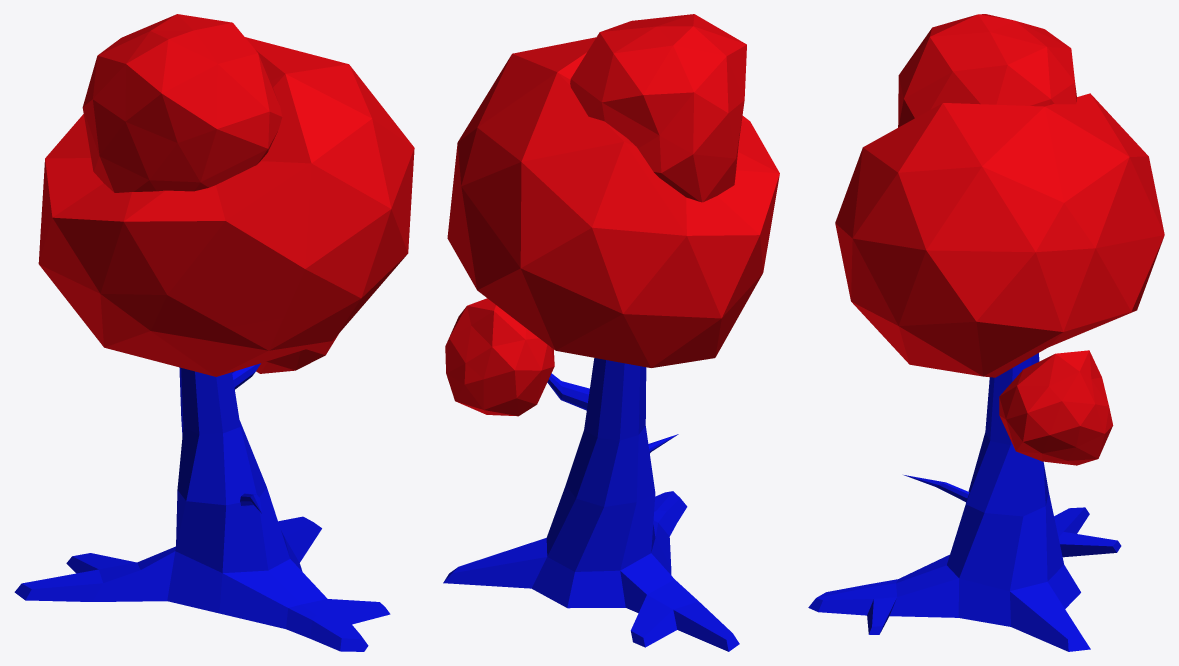
Rendered from SM_Broadleaf1.fbx.
The picture shows the model from 3 angles, left to right: view 1: azimuth 30°, elevation 25°; view 2: azimuth 150°, elevation 25°; view 3: azimuth 270°, elevation 25°; orthographic projection. The views are drawn at different scales.
Parts seen in each view (by area): view 1: SM_Broadleaf1; view 2: SM_Broadleaf1; view 3: SM_Broadleaf1.
Boxes of the visible parts, x1,y1,x2,y2 form: SM_Broadleaf1: [14, 14, 414, 651]; SM_Broadleaf1: [443, 14, 779, 651]; SM_Broadleaf1: [808, 14, 1164, 651].
Bounding box in the file's own units: 172 × 288 × 171.
